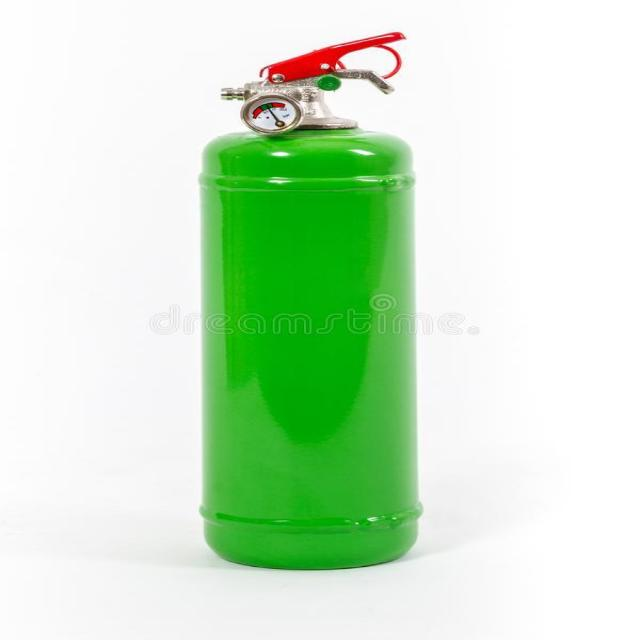fire_extinguisher: (188, 27, 430, 574)
